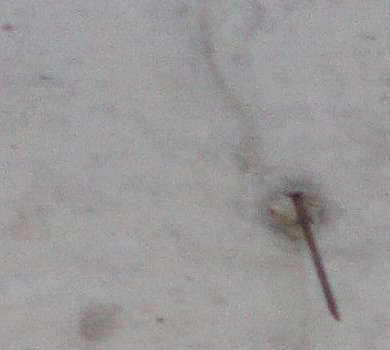Exposed reinforcement: (288, 193, 340, 321)
Spalling: (262, 191, 325, 240)
